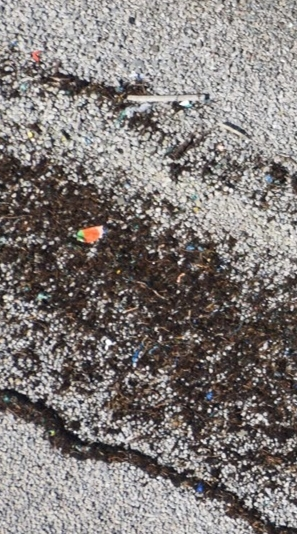scattered_barrel: (146, 240, 230, 289)
straight_bar: (123, 79, 214, 114)
white_in_green: (56, 201, 130, 267), (15, 33, 58, 75), (116, 335, 159, 377), (188, 375, 231, 417), (178, 465, 221, 507), (246, 153, 289, 195)
